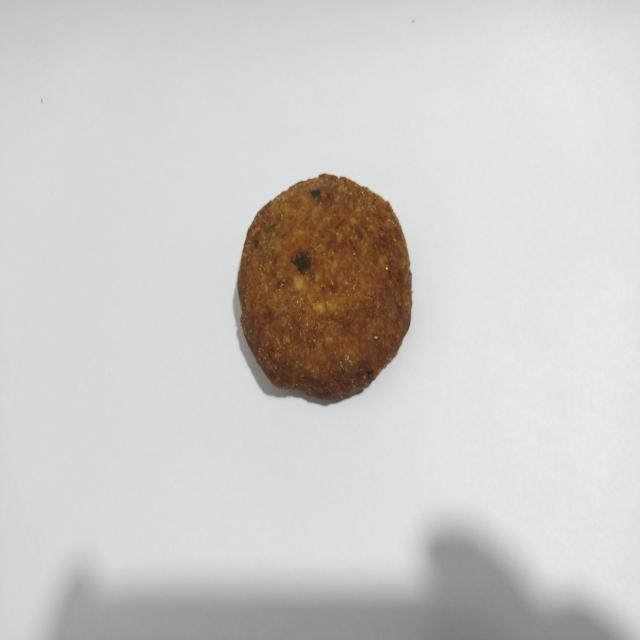Food: (221, 156, 424, 416)
